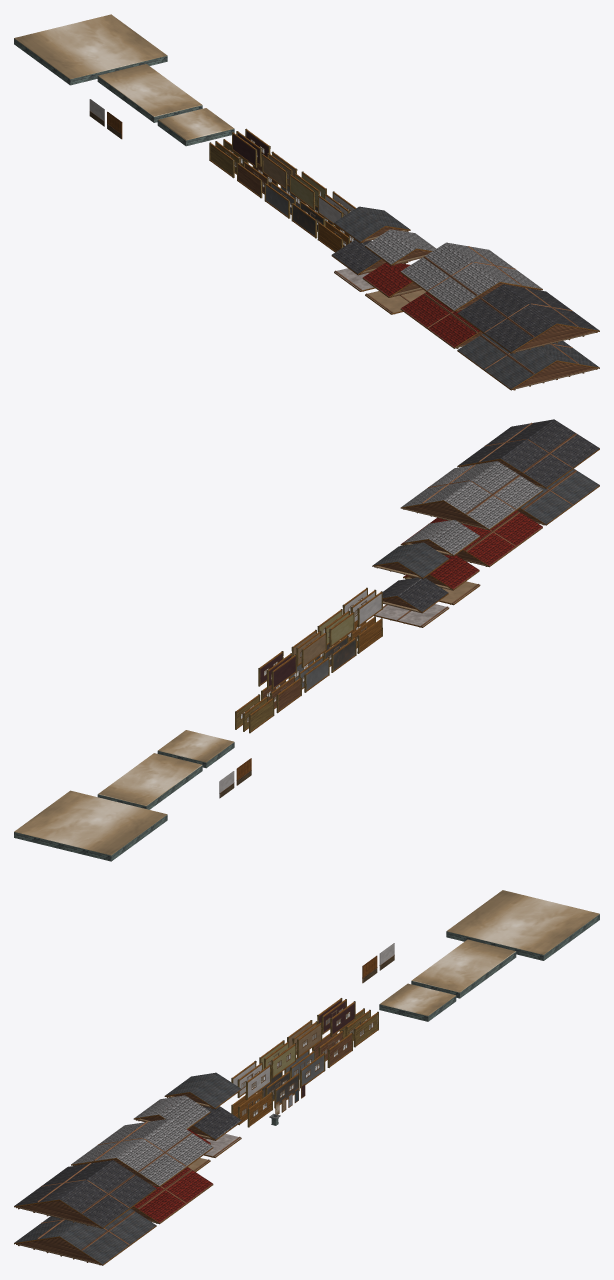
Rendered from ModulerEv(LowPoly).FBX.
3 renders of one model, top to bottom at view 1: azimuth 30°, elevation 25°; view 2: azimuth 150°, elevation 25°; view 3: azimuth 330°, elevation 25°, orthographic.
Parts seen in each view (by area): view 1: Zemin_3, Cati_XL_2, Cati_XL_1, Cati_XL_3, Zemin_2, Cati_XL_4, Zemin_1, Cati_B_4, Cati_B_2, Cati_B_3, Cati_B_1, Cati_A_1 (+7 smaller); view 2: Zemin_3, Cati_XL_1, Cati_XL_2, Zemin_2, Cati_XL_4, Cati_XL_3, Zemin_1, Cati_B_2, Cati_B_1, Cati_B_4, Cati_B_3, Cati_A_2; view 3: Zemin_3, Cati_XL_2, Cati_XL_1, Cati_XL_3, Zemin_2, Cati_XL_4, Zemin_1, Cati_B_2, Cati_B_4, Cati_B_1, Duvar_1_Pencere, Duvar_5_Pencere (+5 smaller).
Part boxes in pixels (x1,y1,x2,y2): Zemin_3: (14, 14, 167, 85); Cati_XL_2: (457, 284, 599, 353); Cati_XL_1: (400, 242, 542, 311); Cati_XL_3: (457, 333, 599, 390); Zemin_2: (97, 64, 202, 122); Cati_XL_4: (400, 292, 482, 348); Zemin_1: (157, 108, 234, 146); Cati_B_4: (365, 229, 436, 265); Cati_B_2: (334, 206, 410, 243); Cati_B_3: (362, 262, 422, 297); Cati_B_1: (331, 239, 408, 275); Cati_A_1: (365, 289, 426, 314); Zemin_3: (14, 790, 167, 861); Cati_XL_1: (400, 461, 542, 530); Cati_XL_2: (457, 419, 599, 488); Zemin_2: (97, 753, 202, 809); Cati_XL_4: (400, 510, 542, 567); Cati_XL_3: (517, 469, 599, 525); Zemin_1: (157, 730, 234, 768); Cati_B_2: (372, 542, 449, 578); Cati_B_1: (382, 577, 448, 613); Cati_B_4: (403, 520, 480, 556); Cati_B_3: (403, 555, 479, 590); Cati_A_2: (374, 604, 449, 627); Zemin_3: (446, 890, 599, 960); Cati_XL_2: (14, 1160, 156, 1228); Cati_XL_1: (71, 1118, 213, 1187); Cati_XL_3: (14, 1209, 156, 1265); Zemin_2: (411, 939, 516, 998); Cati_XL_4: (131, 1167, 213, 1224); Zemin_1: (379, 983, 456, 1021); Cati_B_2: (164, 1072, 241, 1109); Cati_B_4: (133, 1095, 210, 1129); Cati_B_1: (189, 1106, 241, 1140); Duvar_1_Pencere: (247, 1091, 272, 1127); Duvar_5_Pencere: (353, 1011, 378, 1047).
Bounding box in the file's own units: 975 × 576 × 7300.
